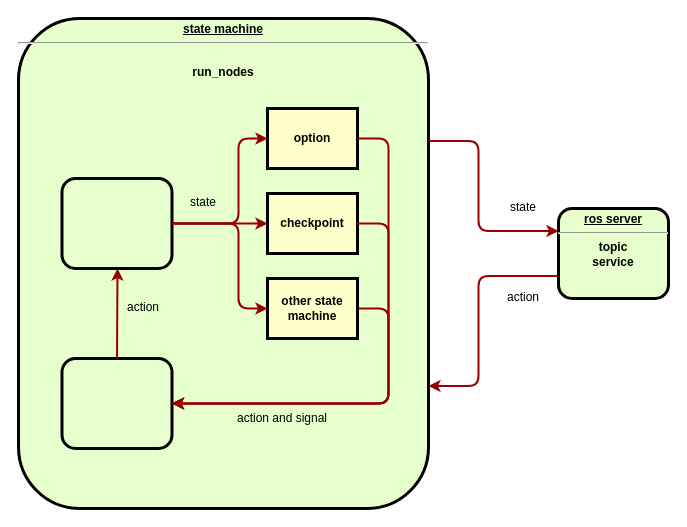
This 687x527 diagram has some shape labels left out. Here are the shapes that lost their labels. From the top down, the centre of each, then its label:
At (x=116, y=223): "node event subsequences".
At (x=116, y=403): "next node event subsequences".
